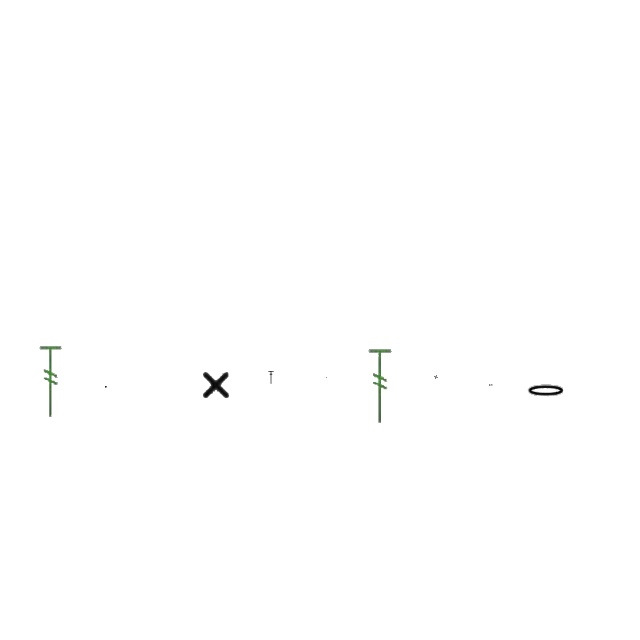chain: (525, 383, 567, 399), (489, 384, 493, 386), (105, 386, 107, 388), (324, 378, 328, 378)
double: (200, 367, 232, 401)
double treble: (268, 372, 274, 384)
enseble_chain: (434, 375, 438, 379)
fan: (366, 347, 396, 425), (37, 344, 65, 420)
